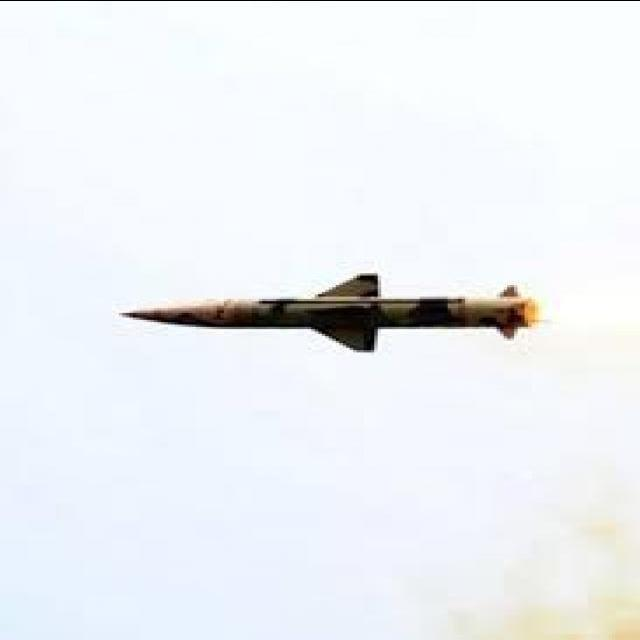missile: (128, 268, 532, 357)
